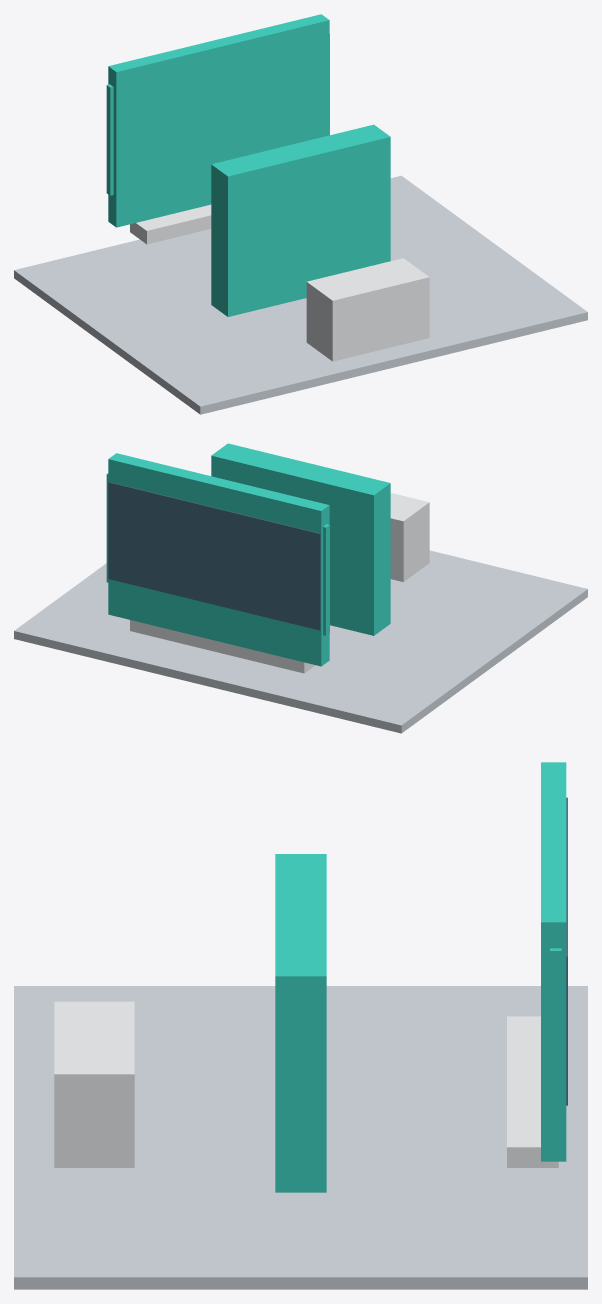
3 views of the same model, one above another, from view 1: azimuth 30°, elevation 25°; view 2: azimuth 150°, elevation 25°; view 3: azimuth 270°, elevation 25° (orthographic). The views are drawn at different scales.
Visible parts, largest first — view 1: Exhibition Booth Concept; view 2: Exhibition Booth Concept; view 3: Exhibition Booth Concept.
Part boxes in pixels (left/top/right/bottom): Exhibition Booth Concept: left=14, top=14, right=587, bottom=414; Exhibition Booth Concept: left=14, top=443, right=587, bottom=733; Exhibition Booth Concept: left=14, top=762, right=587, bottom=1289.
Size of the model in its own units: 6 by 2.9 by 5.
